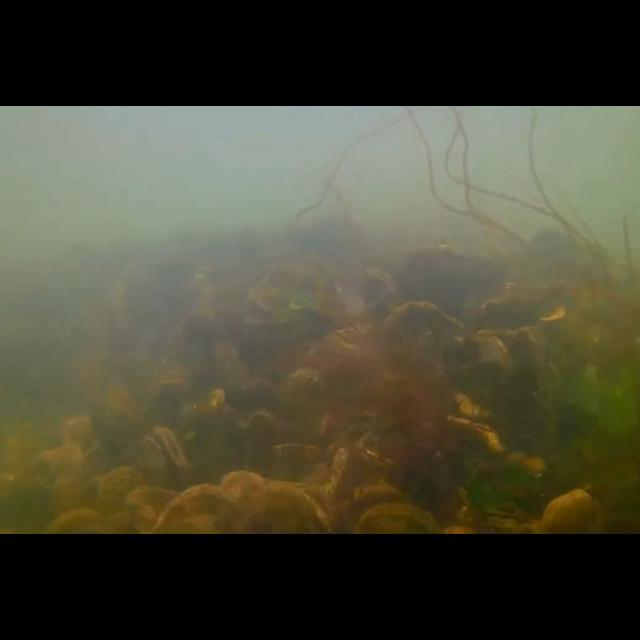Oyster-Closed: (220, 470, 328, 534), (152, 485, 245, 535), (94, 464, 158, 534), (380, 303, 468, 352), (476, 327, 548, 375), (448, 334, 514, 386), (352, 502, 442, 534), (539, 488, 601, 534), (446, 413, 506, 455), (357, 443, 407, 472), (182, 388, 226, 419), (453, 392, 503, 418)
Oyster-Open: (134, 422, 192, 508), (324, 440, 352, 498)
